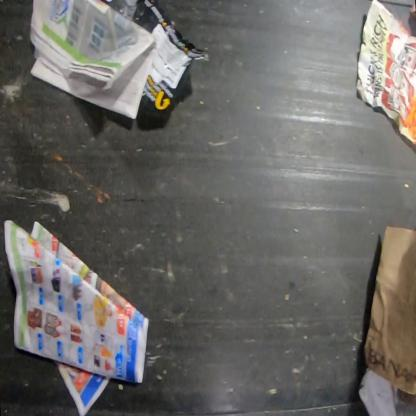cardboard: (364, 224, 415, 395)
